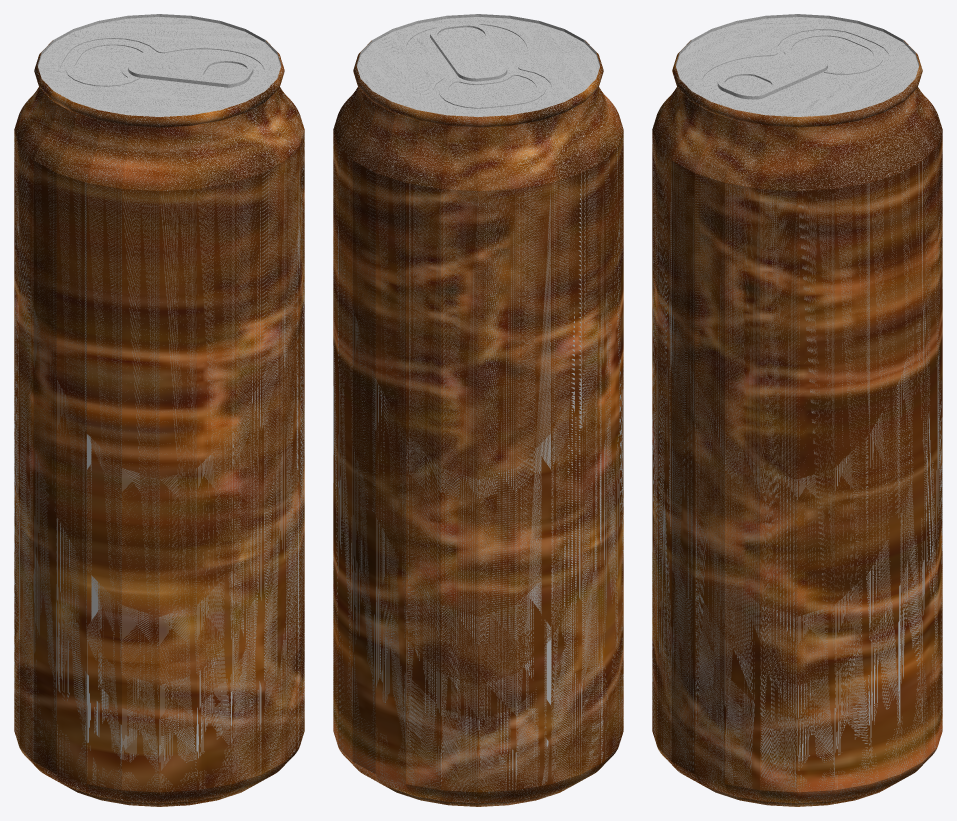
The picture shows the model from 3 angles, left to right: view 1: azimuth 30°, elevation 25°; view 2: azimuth 150°, elevation 25°; view 3: azimuth 270°, elevation 25°; orthographic projection.
Visible parts, largest first — view 1: mesh1.001_mesh1-geometry; view 2: mesh1.001_mesh1-geometry; view 3: mesh1.001_mesh1-geometry.
Part boxes in pixels (x1,y1,x2,y2): mesh1.001_mesh1-geometry: (14,14,304,806); mesh1.001_mesh1-geometry: (333,14,623,806); mesh1.001_mesh1-geometry: (652,14,942,806).
Size of the model in its own units: 0.3337 by 0.8816 by 0.3337.
